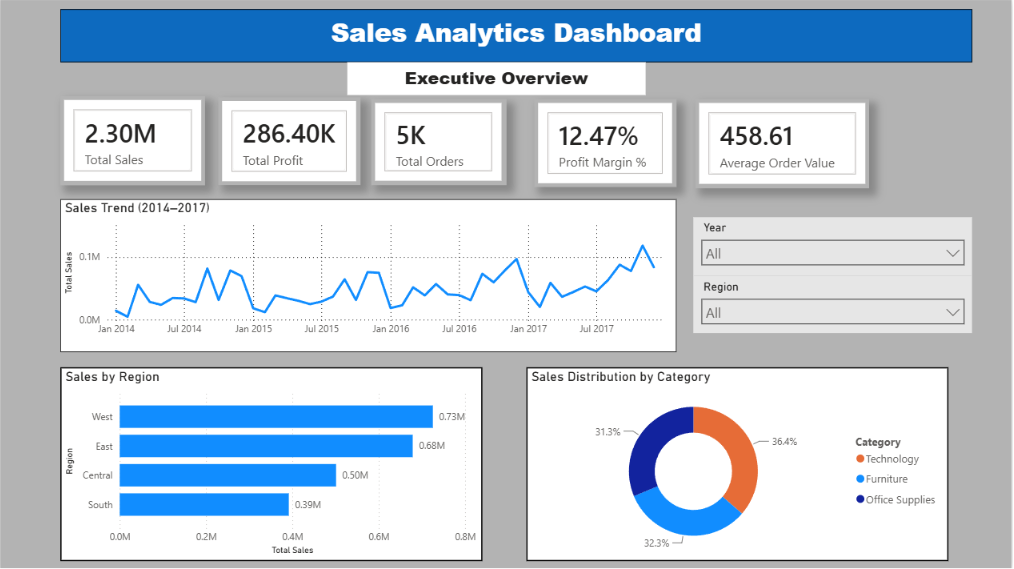

The dashboard page shown, as its layout file describes it:
{"tool":"powerbi","page":{"name":"Executive Overview","canvas":[1280,720],"ordinal":0},"visuals":[{"type":"cardVisual","fields":{"Data":["Orders.Total Sales"]},"box":[75.9,121.5,183.5,112.7],"z":0},{"type":"cardVisual","fields":{"Data":["Orders.Total Profit"]},"box":[275.9,122.8,179.7,111.4],"z":1000},{"type":"cardVisual","fields":{"Data":["Orders.Total Orders"]},"box":[469.6,125.3,170.9,108.9],"z":2000},{"type":"cardVisual","fields":{"Data":["Orders.Profit Margin %"]},"box":[675.9,125.3,179.7,111.4],"z":3000},{"type":"lineChart","title":"Sales Trend (2014–2017)","fields":{"Y":["Orders.Total Sales"],"Category":["DateTable.Date.Variation.Date Hierarchy.Year","DateTable.Date.Variation.Date Hierarchy.Month"]},"box":[75.9,251.9,779.7,193.7],"z":4000},{"type":"clusteredBarChart","title":"Sales by Region","fields":{"Category":["Orders.Region"],"Y":["Orders.Total Sales"]},"box":[75.9,464.6,534.2,245.6],"z":5000},{"type":"donutChart","title":"Sales Distribution by Category","fields":{"Category":["Orders.Category"],"Y":["Orders.Total Sales"]},"box":[665.8,464.6,534.2,245.6],"z":6000},{"type":"slicer","fields":{"Values":["DateTable.Date.Variation.Date Hierarchy.Year"]},"box":[877.2,274.7,353.2,74.7],"z":7000},{"type":"slicer","fields":{"Values":["Orders.Region"]},"box":[877.2,349.4,353.2,72.2],"z":8000},{"type":"textbox","box":[75.9,11.4,1154.4,67.1],"z":9000},{"type":"cardVisual","fields":{"Data":["Orders.Average Order Value"]},"box":[879.7,125.3,220.3,112.7],"z":10000},{"type":"textbox","box":[439.2,78.5,377.2,41.8],"z":11000}]}

Visuals, with their boxes in screenshot pixels (x1, y1, x2, y2), scaled from the page's 1280x720 canvas onto the 1014x569 screenshot:
cardVisual - Orders.Total Sales: x1=60 y1=96 x2=205 y2=185
cardVisual - Orders.Total Profit: x1=219 y1=97 x2=361 y2=185
cardVisual - Orders.Total Orders: x1=372 y1=99 x2=507 y2=185
cardVisual - Orders.Profit Margin %: x1=535 y1=99 x2=678 y2=187
"Sales Trend (2014–2017)" lineChart: x1=60 y1=199 x2=678 y2=352
"Sales by Region" clusteredBarChart: x1=60 y1=367 x2=483 y2=561
"Sales Distribution by Category" donutChart: x1=527 y1=367 x2=951 y2=561
slicer - DateTable.Date.Variation.Date Hierarchy.Year: x1=695 y1=217 x2=975 y2=276
slicer - Orders.Region: x1=695 y1=276 x2=975 y2=333
textbox: x1=60 y1=9 x2=975 y2=62
cardVisual - Orders.Average Order Value: x1=697 y1=99 x2=871 y2=188
textbox: x1=348 y1=62 x2=647 y2=95
